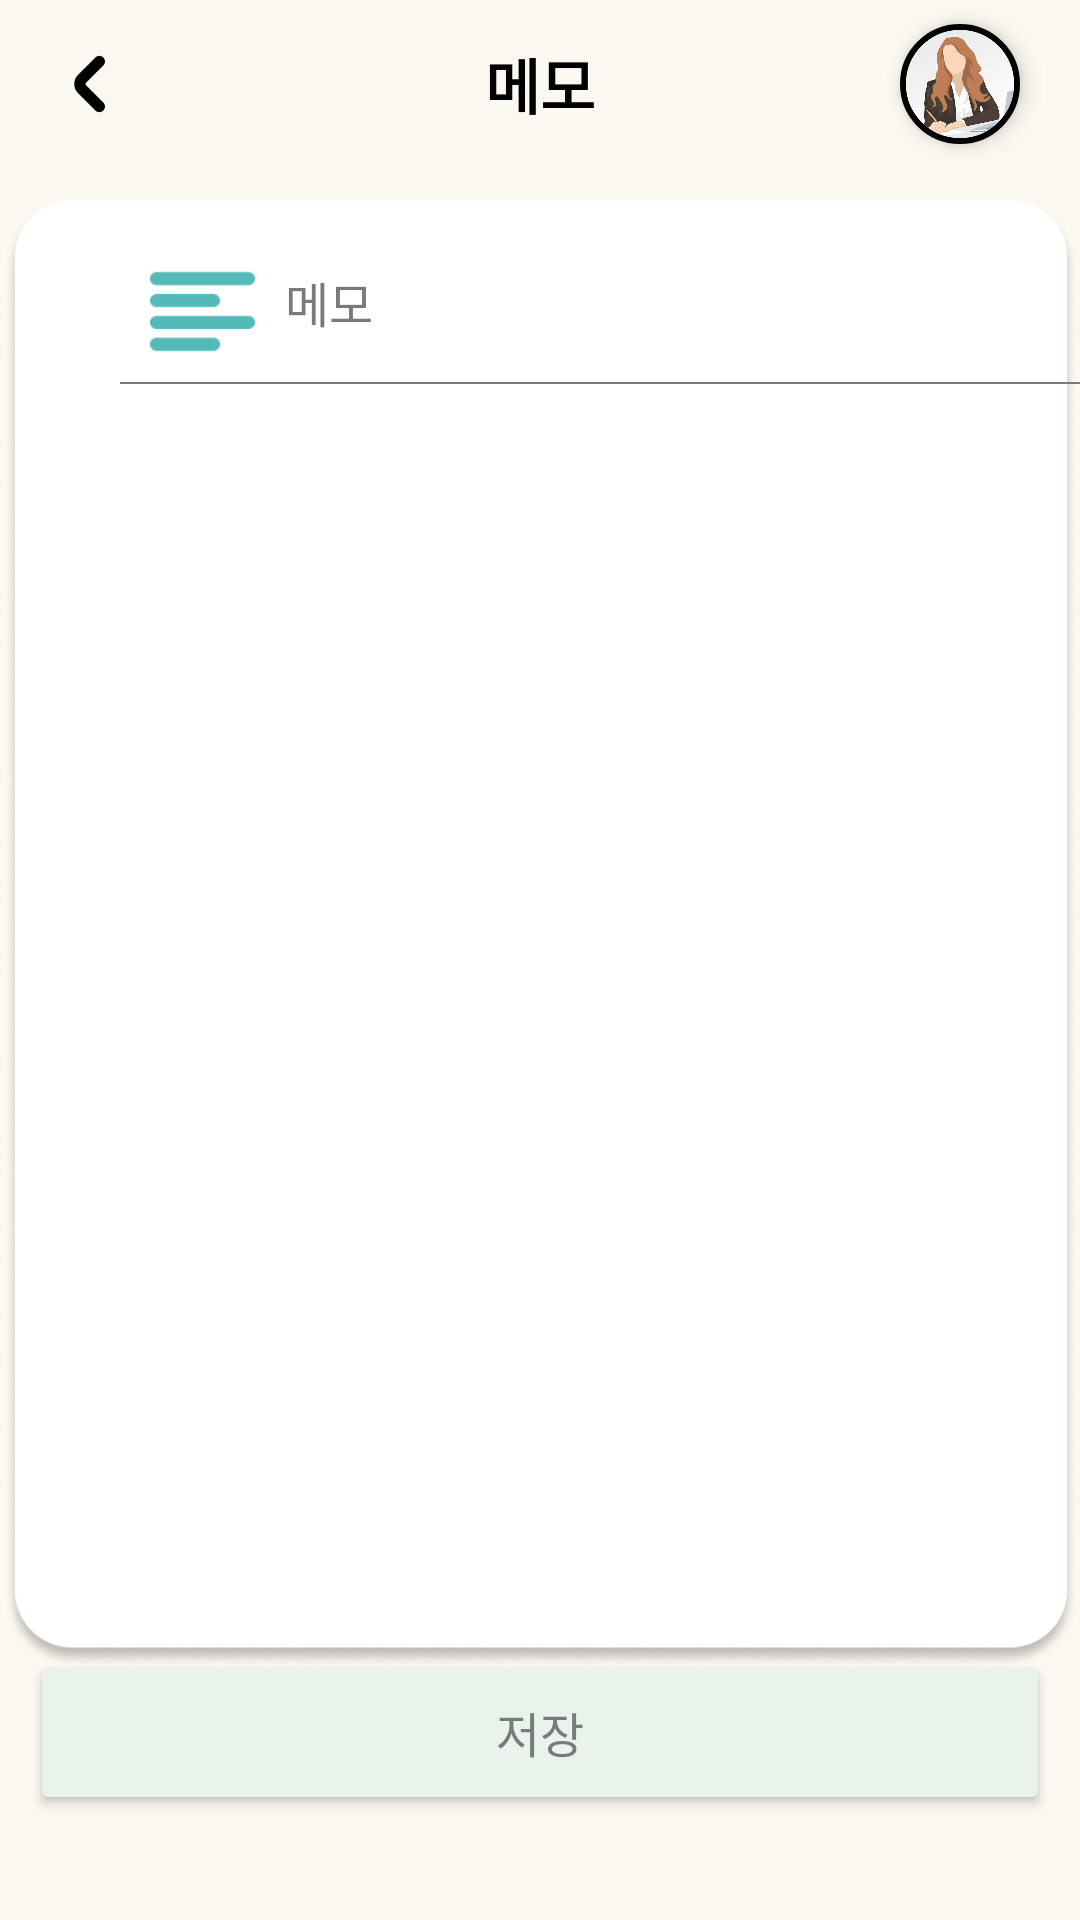

Point at icon controls on the screen. Image size 1080×1920, points as (x,y).
back: (89,84)
profile: (960,84)
